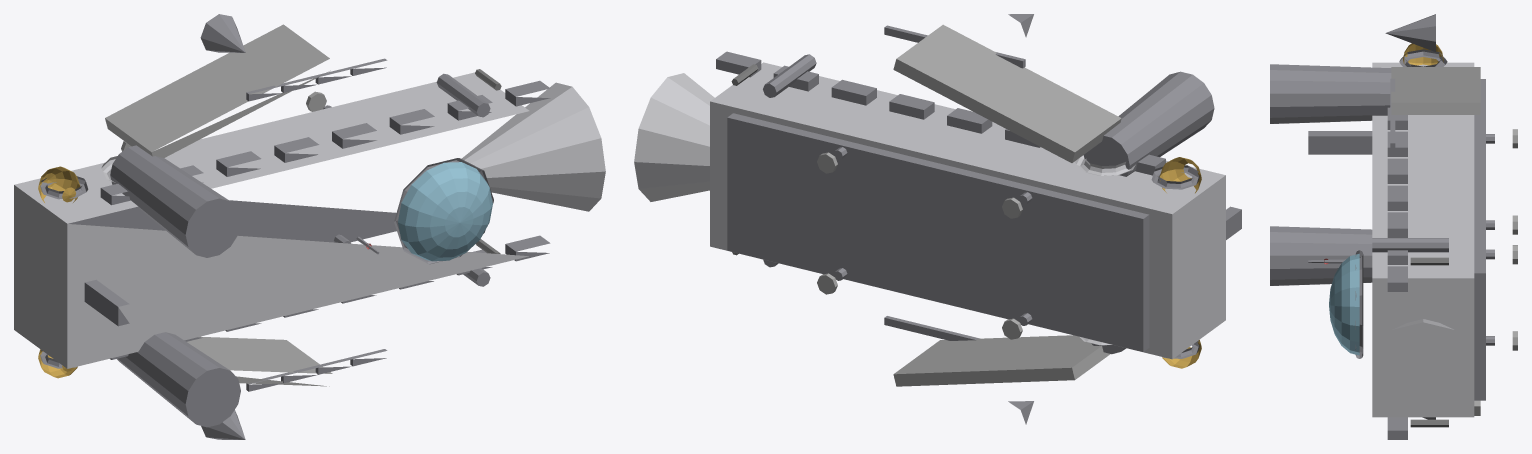
The model's file is spaceship.glb.
The picture shows the model from 3 angles, left to right: view 1: azimuth 30°, elevation 25°; view 2: azimuth 150°, elevation 25°; view 3: azimuth 270°, elevation 25°; orthographic projection. The views are drawn at different scales.
Parts seen in each view (by area): view 1: geometry_0; view 2: geometry_0; view 3: geometry_0.
Boxes of the visible parts, x1,y1,x2,y2 form: geometry_0: [14, 14, 605, 439]; geometry_0: [634, 14, 1241, 424]; geometry_0: [1270, 14, 1517, 439].
Bounding box in the file's own units: 2.3 × 1.76 × 0.97.
